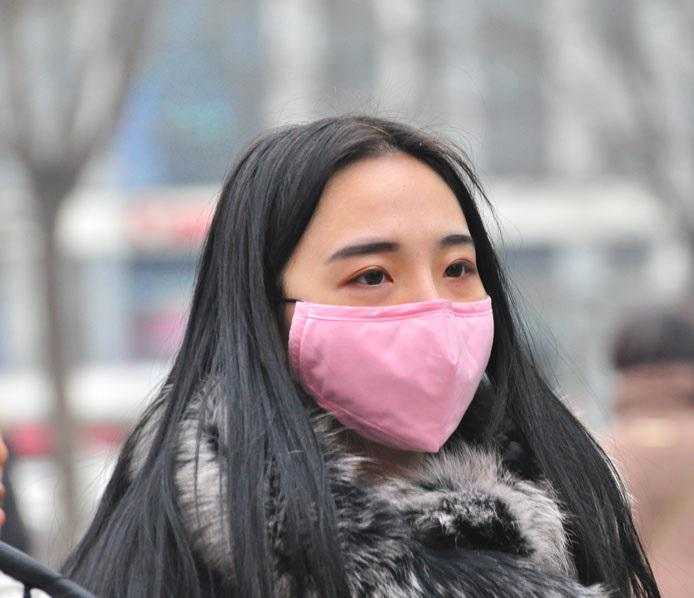OK: (309, 206, 494, 455)
